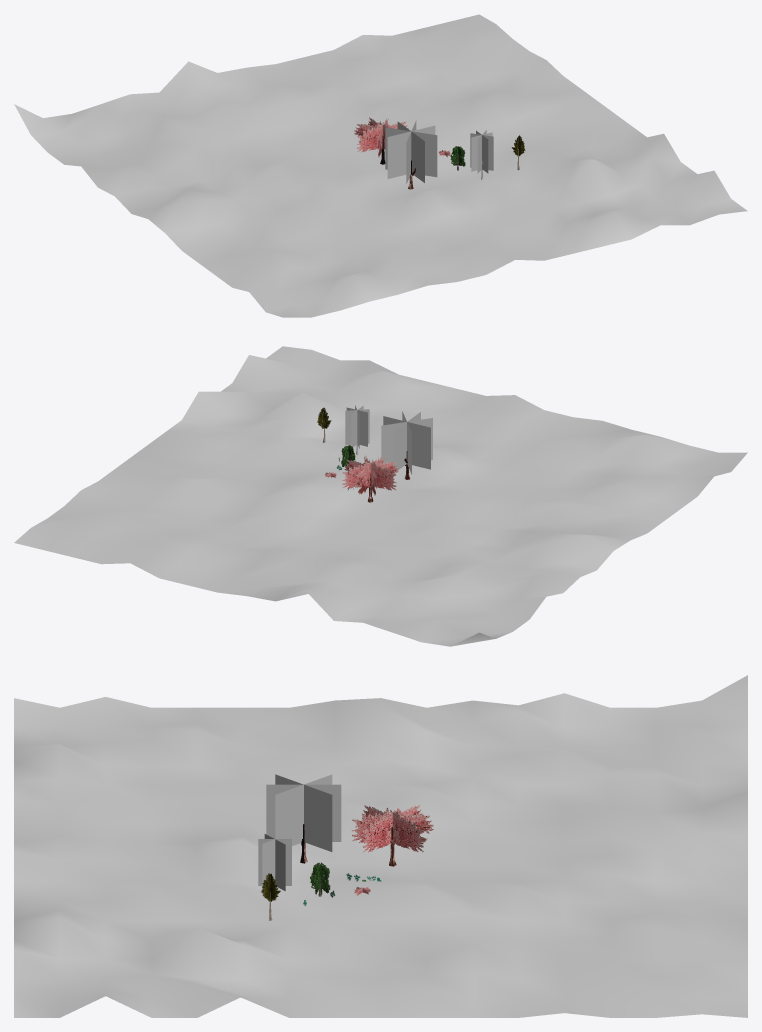
File: Sakura Tree.fbx
The picture shows the model from 3 angles, top to bottom: view 1: azimuth 30°, elevation 25°; view 2: azimuth 150°, elevation 25°; view 3: azimuth 270°, elevation 25°; orthographic projection. The views are drawn at different scales.
Visible parts, largest first — view 1: Plane.003, Texture 5, Bush 2.001, Plane.002; view 2: Plane.003, Texture 5, Bush 2.001, Plane.002; view 3: Plane.003, Texture 5, Bush 2.001, Plane.002.
Part boxes in pixels (box(x1,y1,x2,y2)): Plane.003: box(14, 14, 747, 317); Texture 5: box(385, 120, 437, 184); Bush 2.001: box(354, 117, 408, 157); Plane.002: box(470, 130, 493, 173); Plane.003: box(14, 346, 747, 646); Texture 5: box(381, 411, 432, 474); Bush 2.001: box(342, 455, 398, 495); Plane.002: box(345, 405, 369, 448); Plane.003: box(14, 675, 747, 1017); Texture 5: box(266, 774, 341, 851); Bush 2.001: box(351, 805, 433, 852); Plane.002: box(258, 834, 291, 891).
Size of the model in its own units: 36227 by 4341 by 36227.
